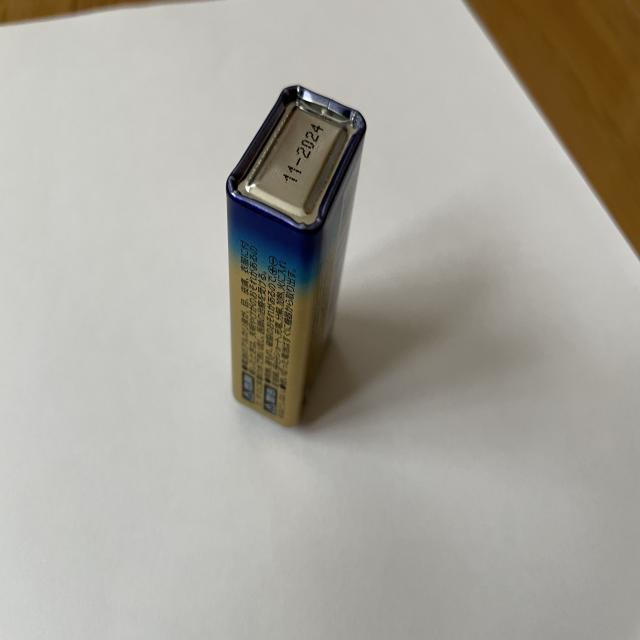9V: (225, 81, 368, 428)
